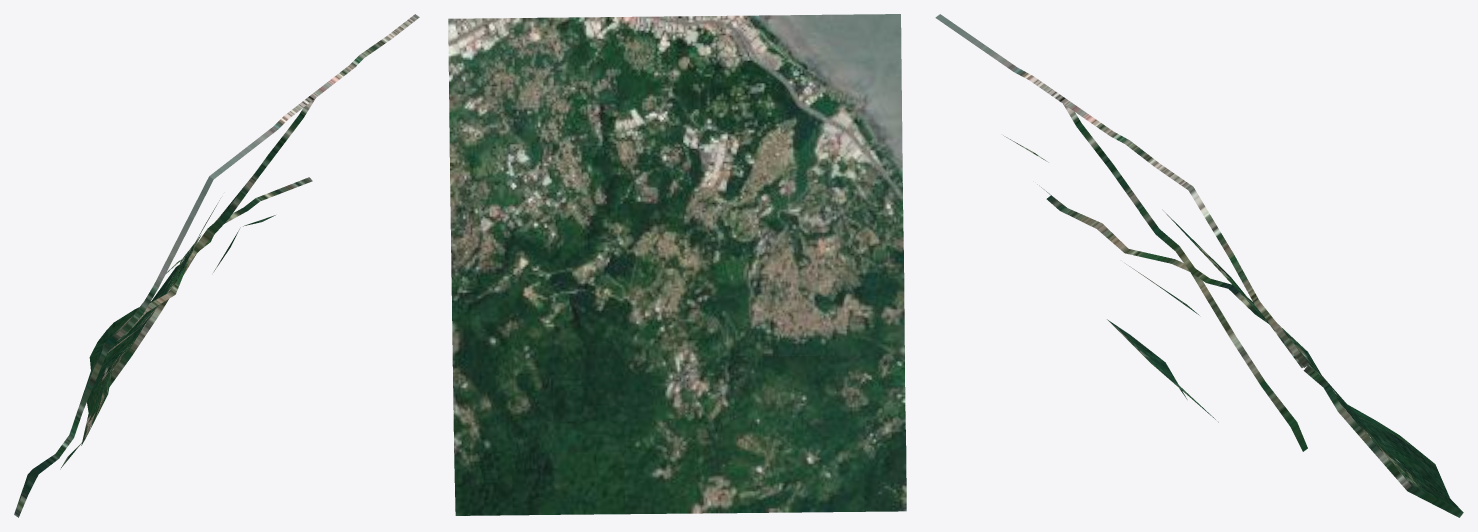
The picture shows the model from 3 angles, left to right: view 1: azimuth 30°, elevation 25°; view 2: azimuth 150°, elevation 25°; view 3: azimuth 270°, elevation 25°; orthographic projection. The views are drawn at different scales.
Bounding box in the file's own units: 2493 × 2180 × 2429.
1 material, 1 textured.
